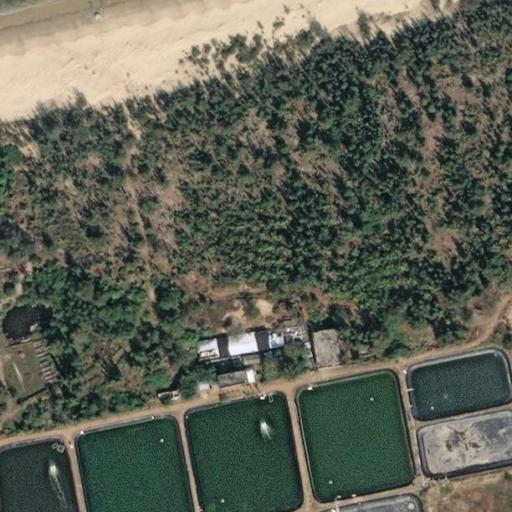building: (293, 329, 327, 371), (341, 496, 418, 512), (202, 355, 238, 389), (194, 334, 226, 359)
